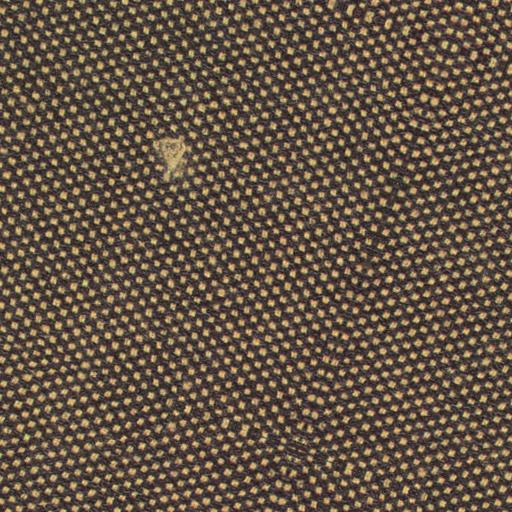knot: (145, 127, 199, 182)
